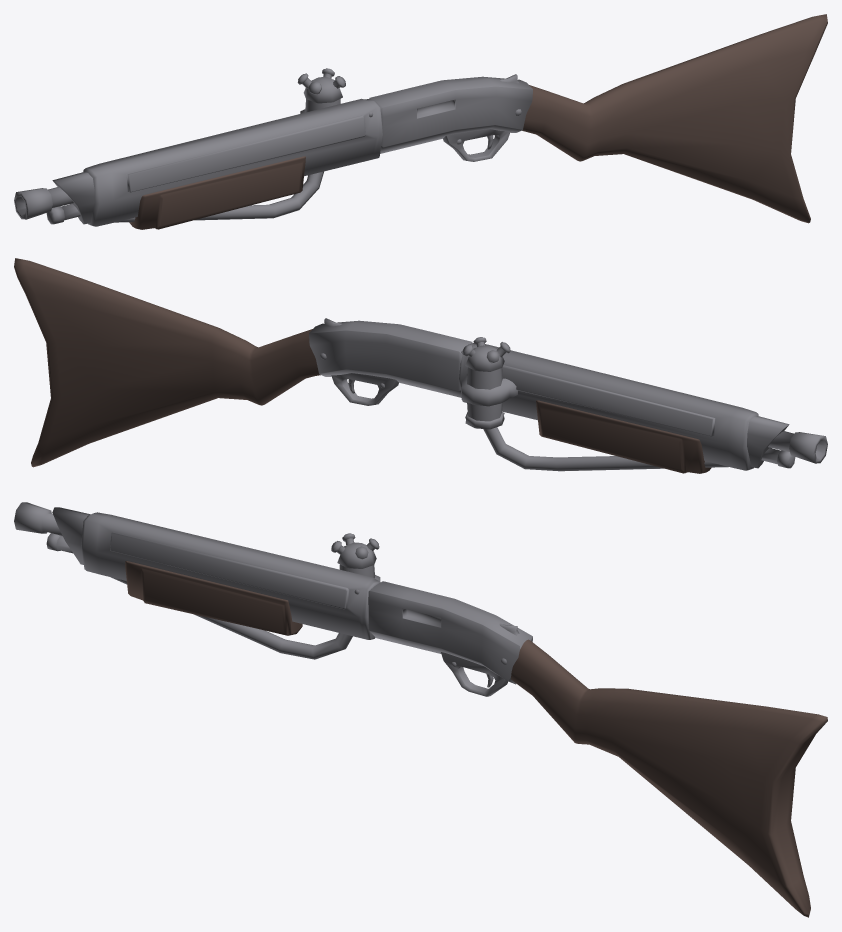
File: Shotgun.fbx
The picture shows the model from 3 angles, top to bottom: view 1: azimuth 30°, elevation 25°; view 2: azimuth 150°, elevation 25°; view 3: azimuth 330°, elevation 25°; orthographic projection.
Visible parts, largest first — view 1: Cube.012, Cube.057, Cube.006, Cube.059, NurbsPath.009, Cube.060, Cube.058, Cube.014, Cube.064, Cube.067, Cube.061; view 2: Cube.012, Cube.057, Cube.006, Cube.059, NurbsPath.009, Cube.060, Cube.058, Cube.062, Cube.014, Cube.066, Cube.064, Cube.067 (+1 smaller); view 3: Cube.012, Cube.057, Cube.006, Cube.059, NurbsPath.009, Cube.014, Cube.060, Cube.058.
Boxes of the visible parts, box(x1,y1,x2,y2) form: Cube.012: box(522, 14, 827, 223); Cube.057: box(83, 98, 382, 226); Cube.006: box(369, 76, 532, 153); Cube.059: box(129, 156, 305, 229); NurbsPath.009: box(115, 171, 323, 222); Cube.060: box(14, 187, 73, 219); Cube.058: box(52, 172, 94, 224); Cube.014: box(443, 129, 510, 161); Cube.064: box(303, 77, 342, 103); Cube.067: box(297, 68, 345, 94); Cube.061: box(46, 204, 80, 224); Cube.012: box(14, 258, 320, 467); Cube.057: box(459, 343, 758, 470); Cube.006: box(309, 320, 472, 397); Cube.059: box(536, 400, 711, 473); NurbsPath.009: box(483, 427, 728, 471); Cube.060: box(768, 431, 827, 463); Cube.058: box(747, 416, 789, 468); Cube.062: box(467, 367, 502, 421); Cube.014: box(331, 373, 398, 405); Cube.066: box(461, 374, 517, 406); Cube.064: box(465, 345, 504, 371); Cube.067: box(462, 337, 510, 363); Cube.012: box(511, 639, 827, 917); Cube.057: box(81, 512, 380, 639); Cube.006: box(368, 581, 532, 684); Cube.059: box(125, 561, 302, 635); NurbsPath.009: box(111, 577, 352, 659); Cube.014: box(441, 652, 508, 696); Cube.060: box(14, 502, 62, 535); Cube.058: box(52, 507, 90, 564).
Bounding box in the file's own units: 110 × 32.67 × 9.24.
